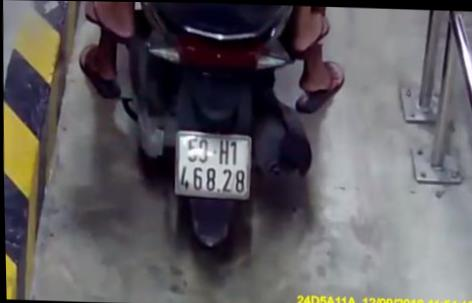LP: (166, 126, 253, 207)
